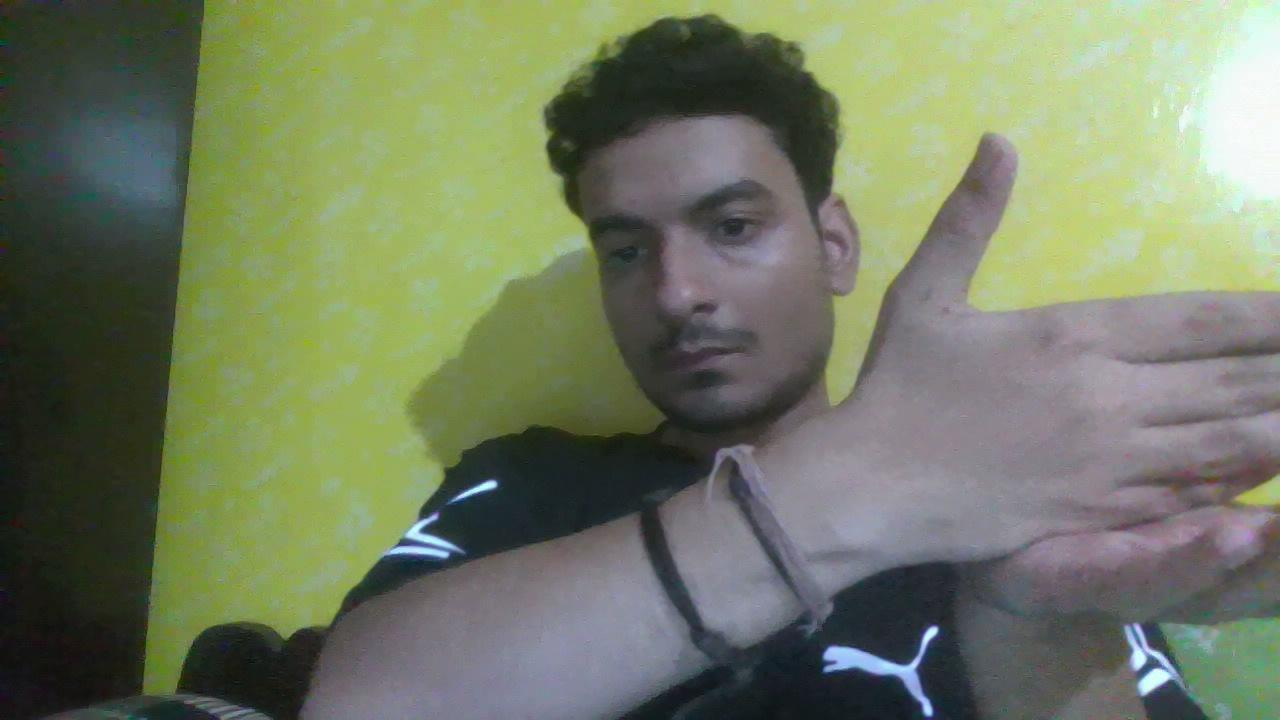stop: (850, 159, 1280, 651)
